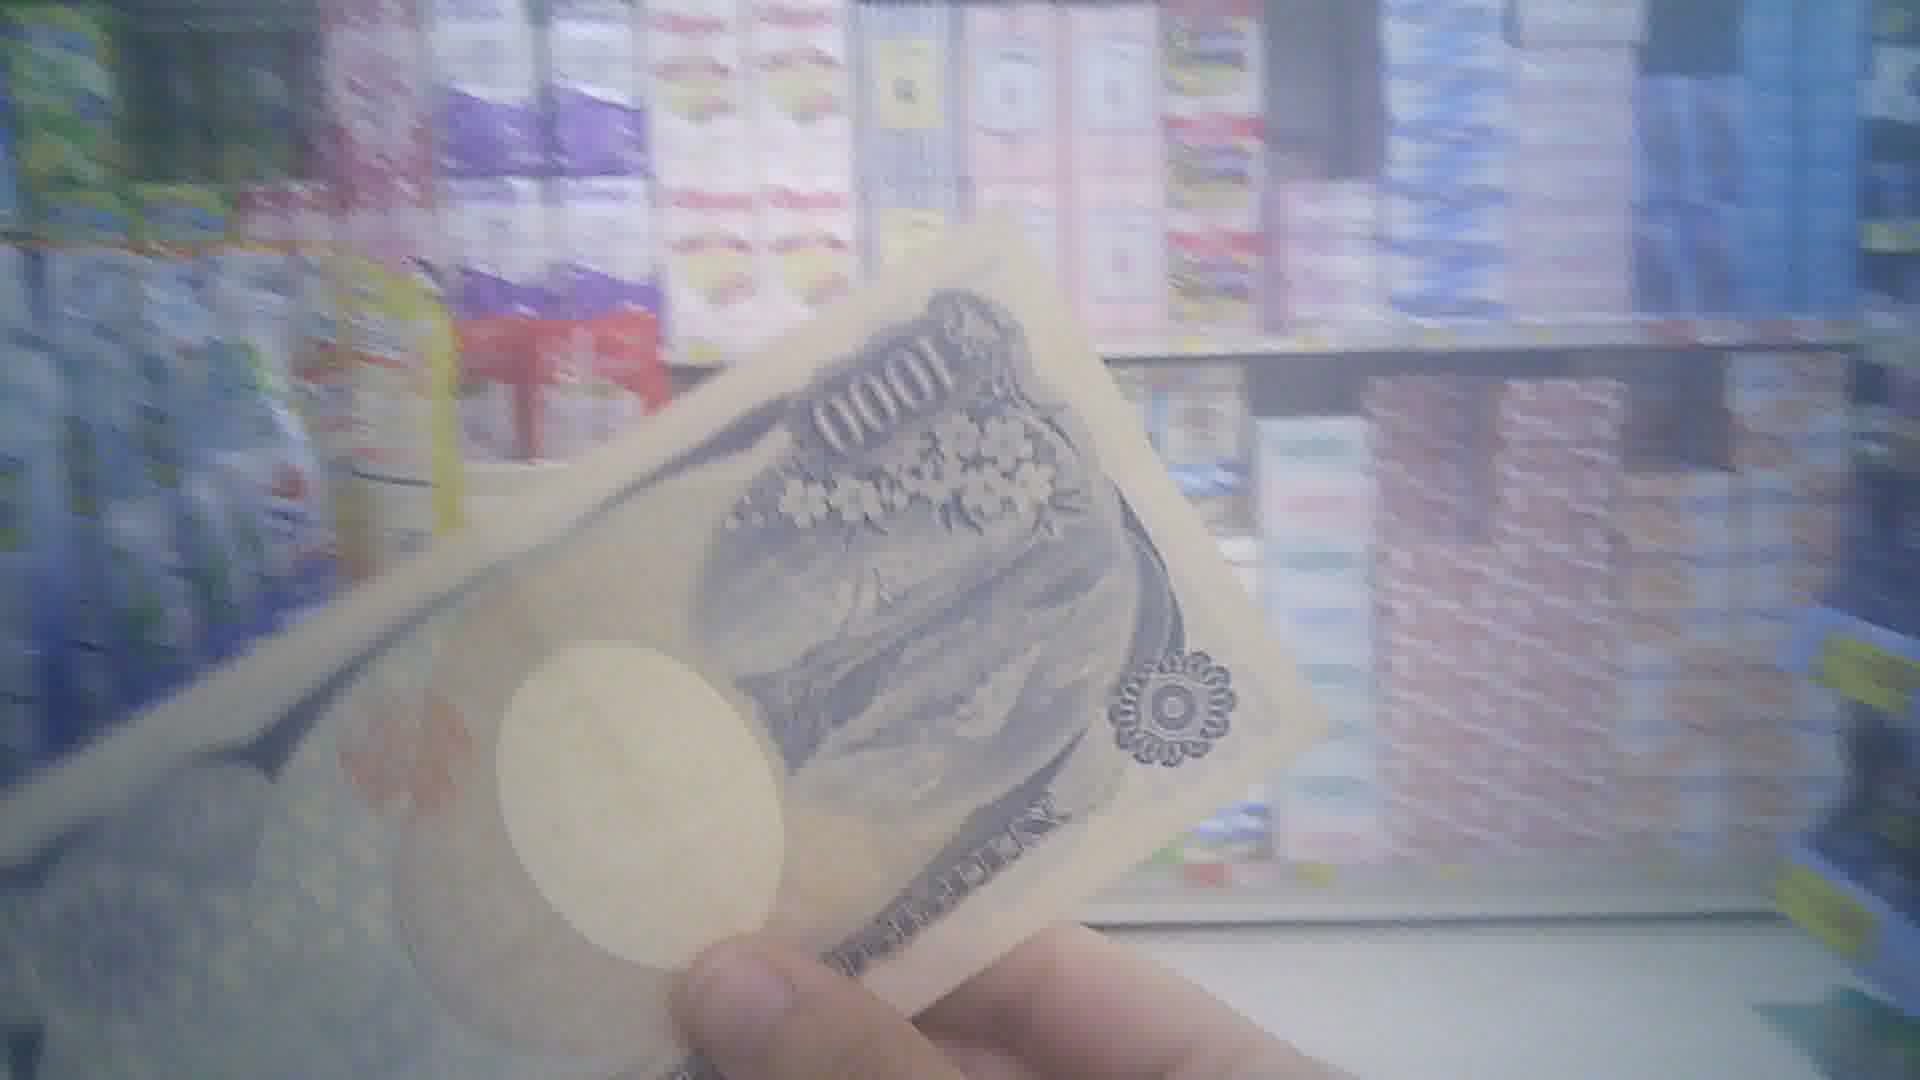1,000 Yen: (20, 210, 1321, 1079)
